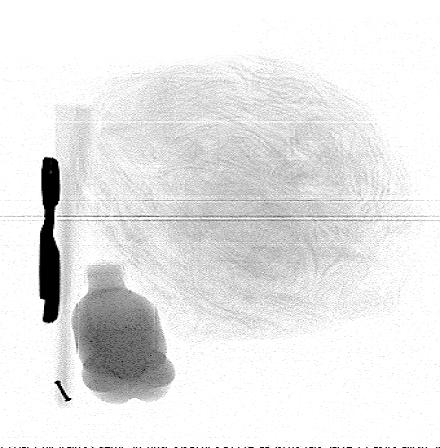Pliers: (36, 156, 62, 323)
